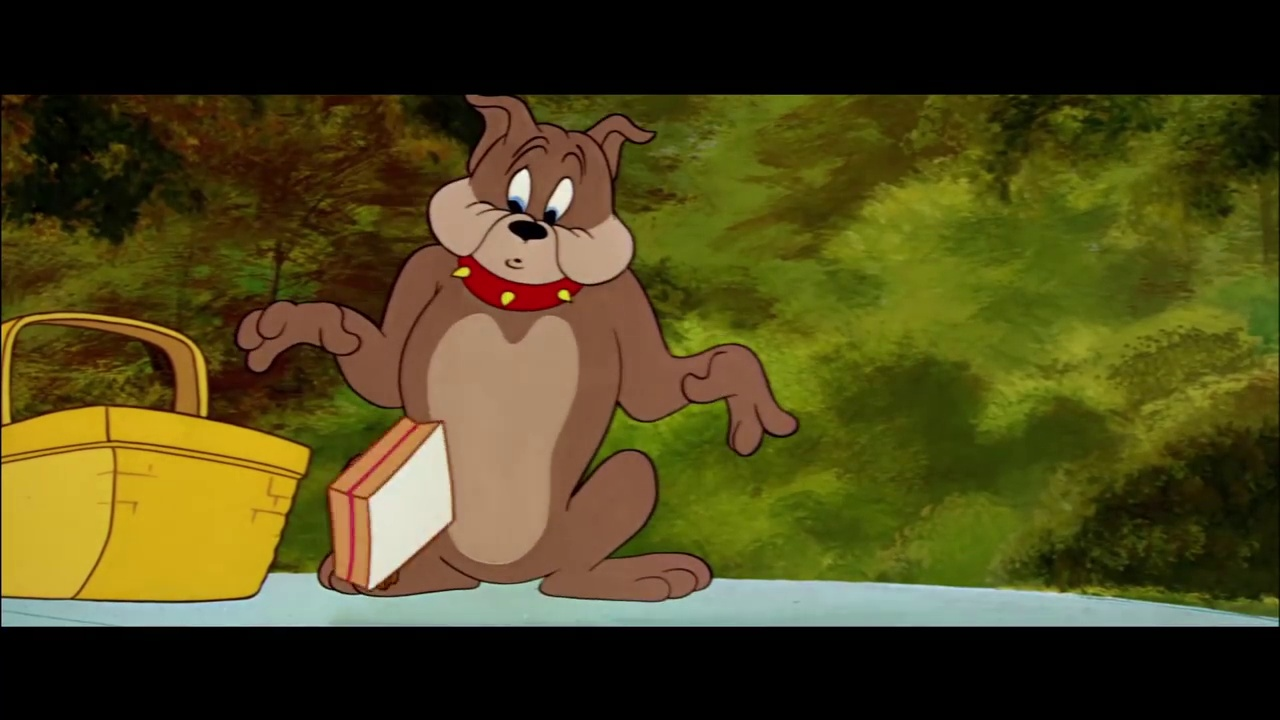spike: (425, 95, 661, 317)
